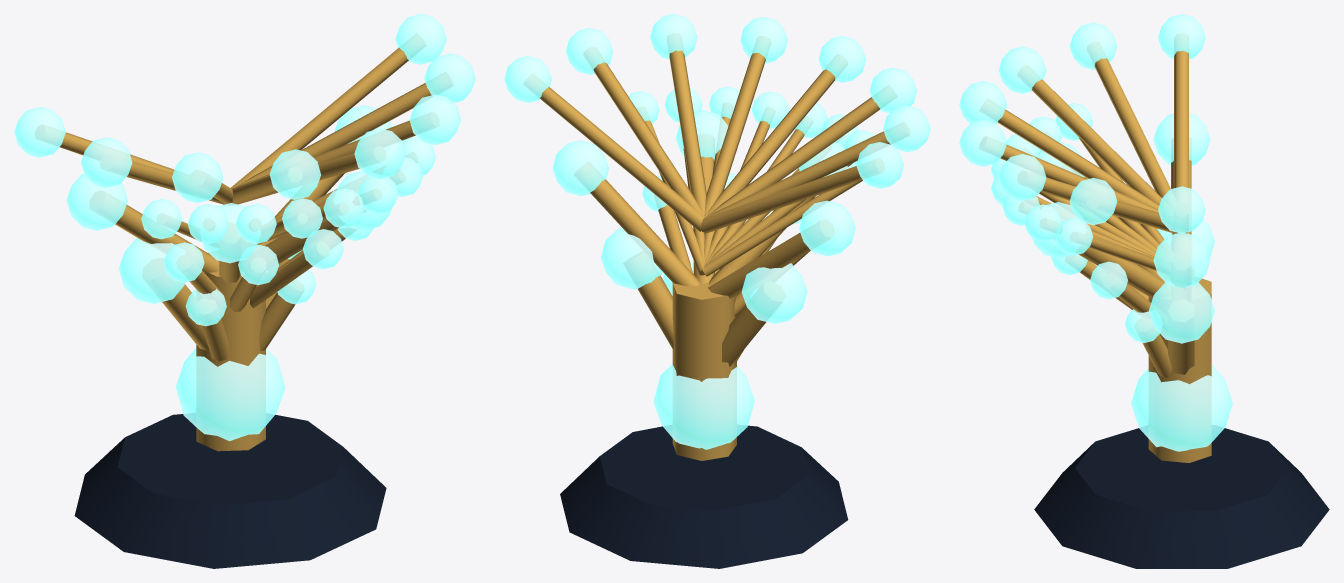
File: fractal.glb
The picture shows the model from 3 angles, left to right: view 1: azimuth 30°, elevation 25°; view 2: azimuth 150°, elevation 25°; view 3: azimuth 270°, elevation 25°; orthographic projection. The views are drawn at different scales.
Parts seen in each view (by area): view 1: body, identity-fractal; view 2: body, identity-fractal; view 3: body, identity-fractal.
Boxes of the visible parts, x1=… form: body: x1=14, y1=14, x2=475, y2=568; identity-fractal: x1=141, y1=137, x2=435, y2=441; body: x1=504, y1=14, x2=930, y2=568; identity-fractal: x1=628, y1=86, x2=874, y2=449; body: x1=959, y1=14, x2=1329, y2=568; identity-fractal: x1=991, y1=103, x2=1232, y2=451.
Bounding box in the file's own units: 1.79 × 1.76 × 1.45.
